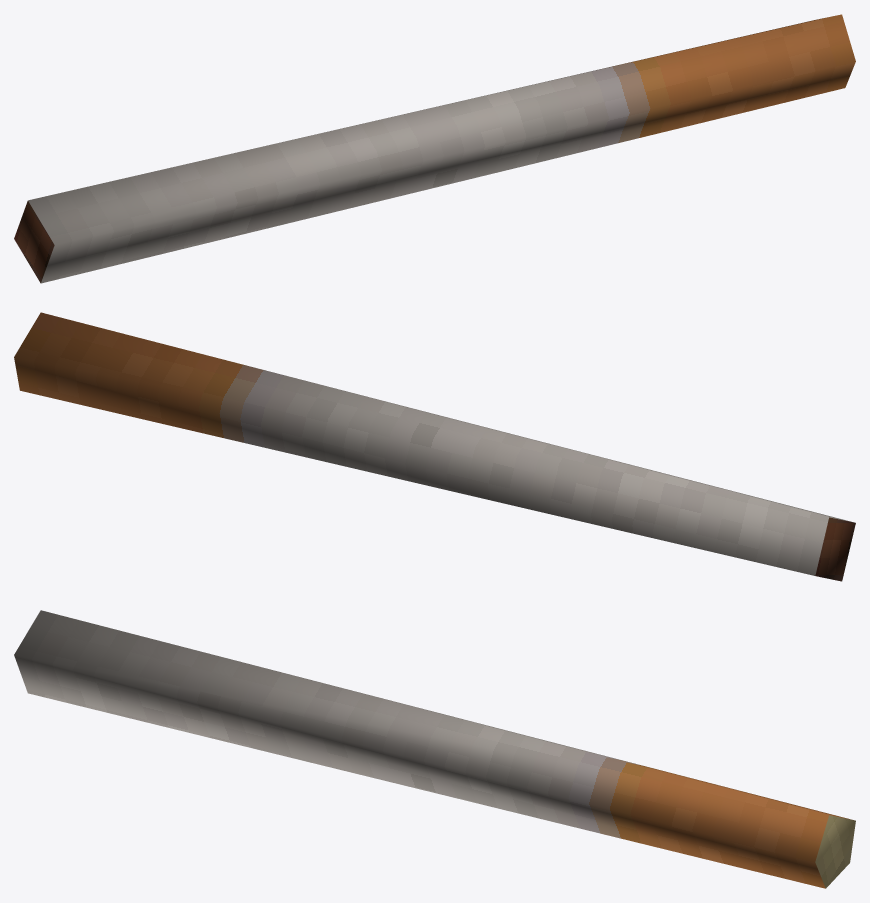
Rendered from cig_1.glb.
The picture shows the model from 3 angles, top to bottom: view 1: azimuth 30°, elevation 25°; view 2: azimuth 150°, elevation 25°; view 3: azimuth 330°, elevation 25°; orthographic projection.
Parts seen in each view (by area): view 1: cig_1; view 2: cig_1; view 3: cig_1.
Boxes of the visible parts, <box> form: cig_1: <box>14,14,855,283</box>; cig_1: <box>14,312,855,581</box>; cig_1: <box>14,610,855,888</box>.
Size of the model in its own units: 0.153 by 0.0134 by 0.0135.
1 material, 1 textured.
